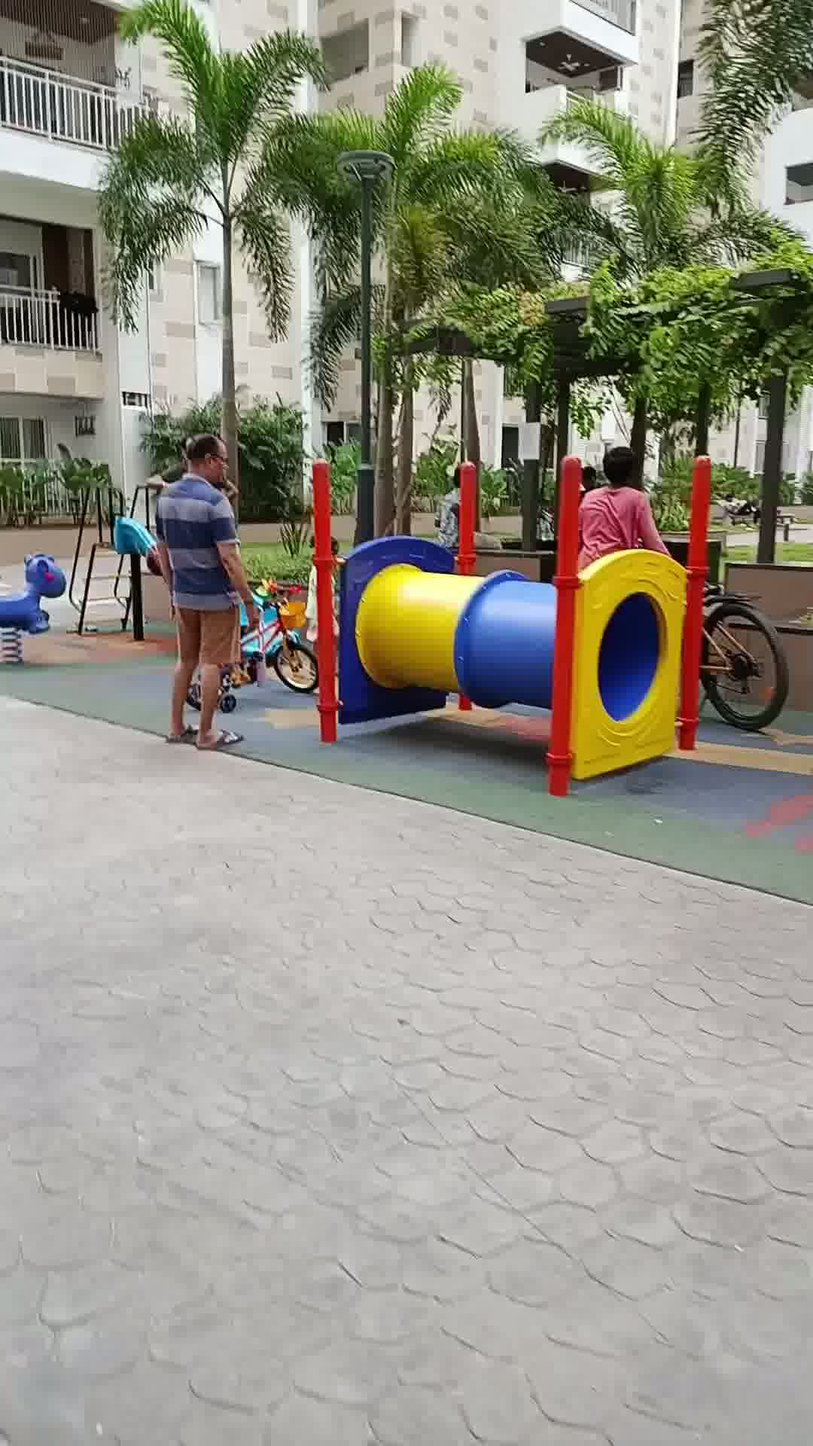bicycle: (645, 550, 807, 737), (173, 569, 338, 707)
person: (115, 426, 297, 770), (544, 396, 681, 580)
tree: (277, 45, 492, 561), (85, 34, 308, 501), (555, 64, 755, 561)
